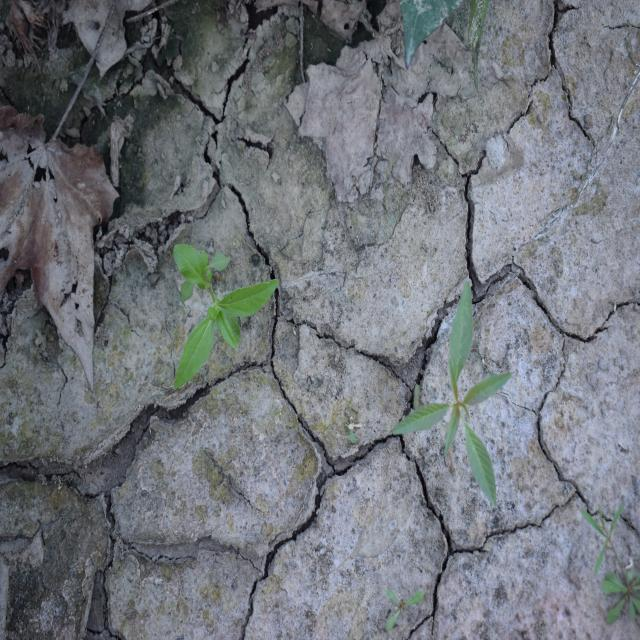Carpetweed: (580, 500, 639, 628), (383, 587, 425, 635)
Eclipta: (172, 242, 280, 390)
Waterhemp: (391, 278, 514, 506)
